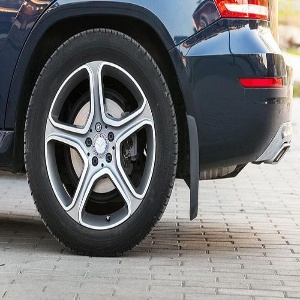train: (28, 26, 179, 257)
